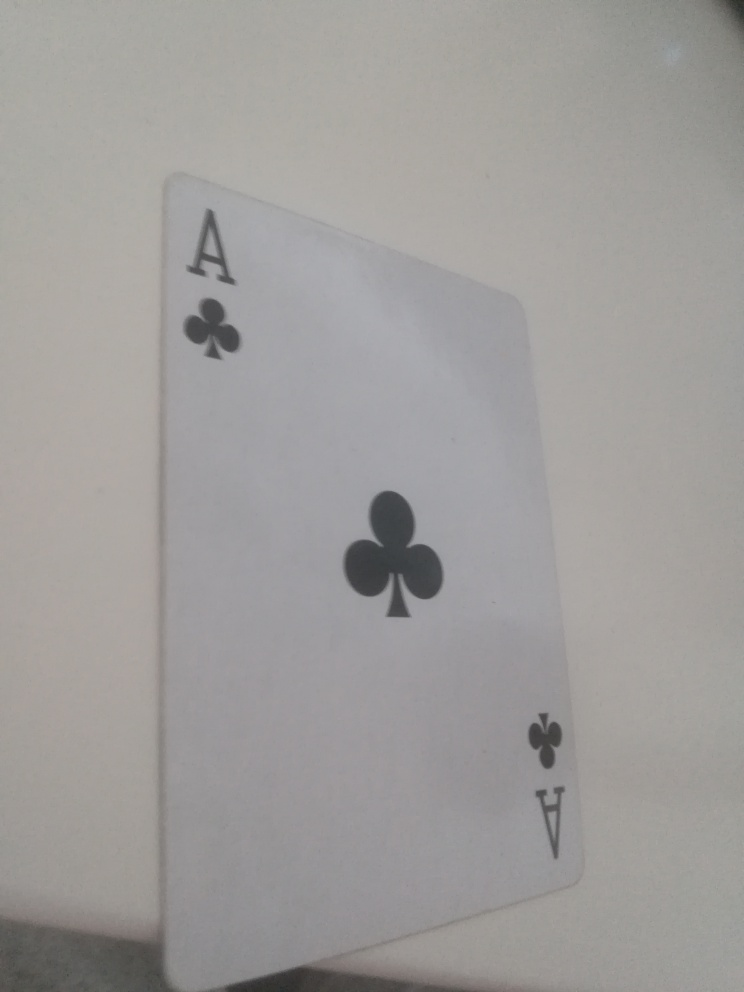AC: (177, 198, 248, 371)
